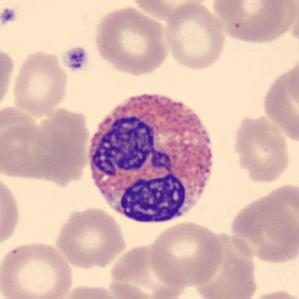Eosinophil: (82, 82, 222, 232)
Platelets: (62, 44, 90, 72), (0, 6, 18, 26)
RBC: (92, 5, 170, 77), (147, 219, 225, 287), (31, 109, 92, 190), (53, 205, 127, 270), (162, 0, 228, 72), (230, 198, 299, 265), (0, 238, 75, 299), (229, 113, 292, 185), (110, 243, 190, 299), (10, 48, 70, 117), (193, 232, 254, 299), (210, 0, 295, 45), (1, 120, 52, 181), (260, 64, 299, 143), (258, 184, 299, 252), (128, 0, 214, 21), (0, 170, 21, 253), (57, 282, 126, 299), (0, 45, 16, 113), (245, 287, 299, 298)
